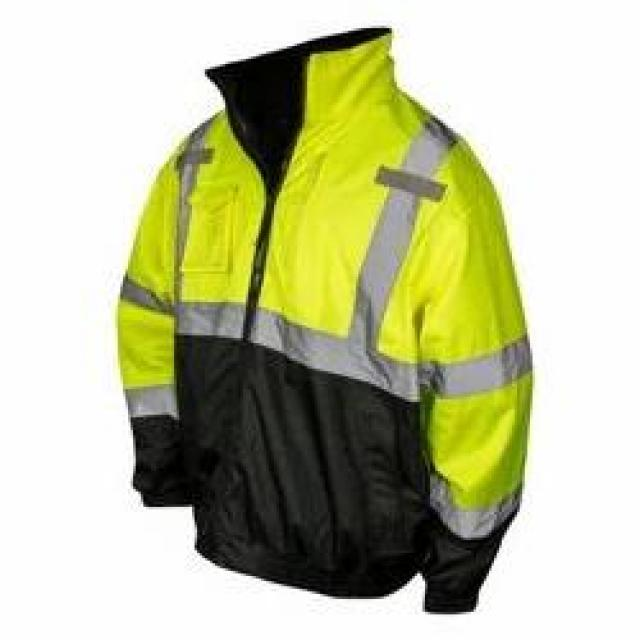Reflective-Jacket: (102, 13, 566, 591)
